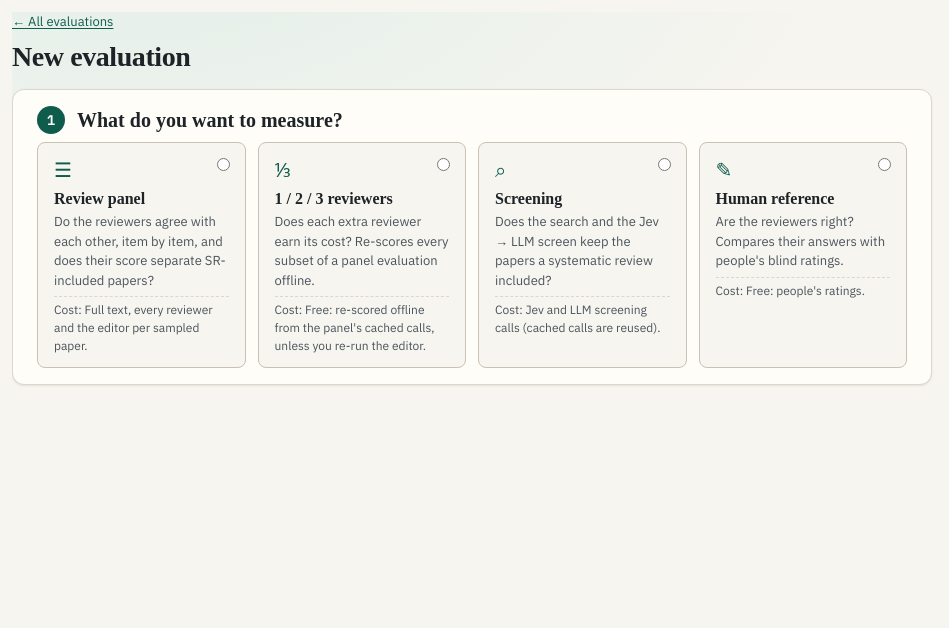
Test: New evaluation › human reference explains where it comes from instead of starting a job
Click the radio button labelled "Human reference". click: (884, 165)
box: top-left (878, 158), bottom-right (891, 171)
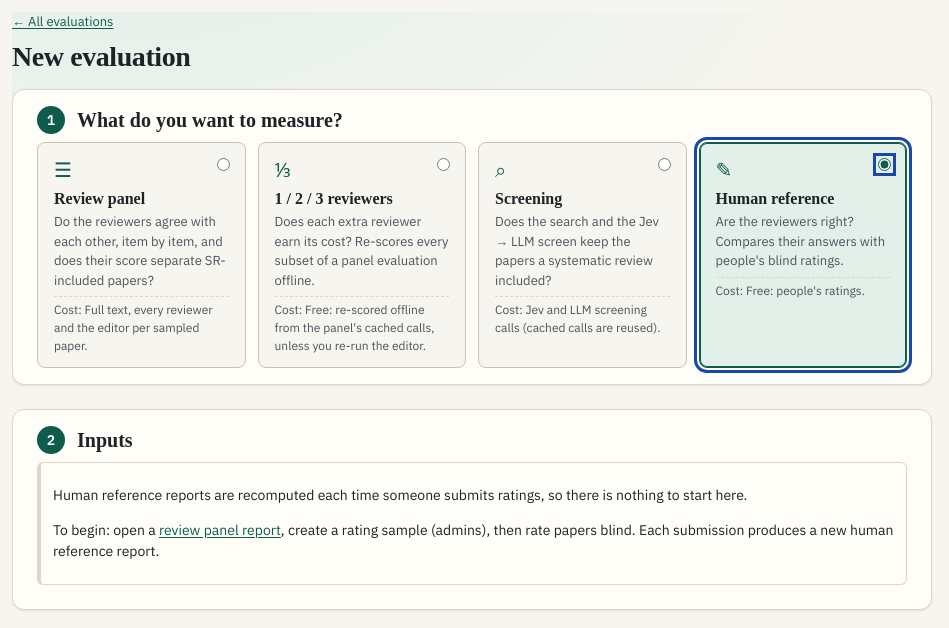
Expected: the text "recomputed each time someone submits ratings" is shown, top-left (53, 486), bottom-right (747, 504)
